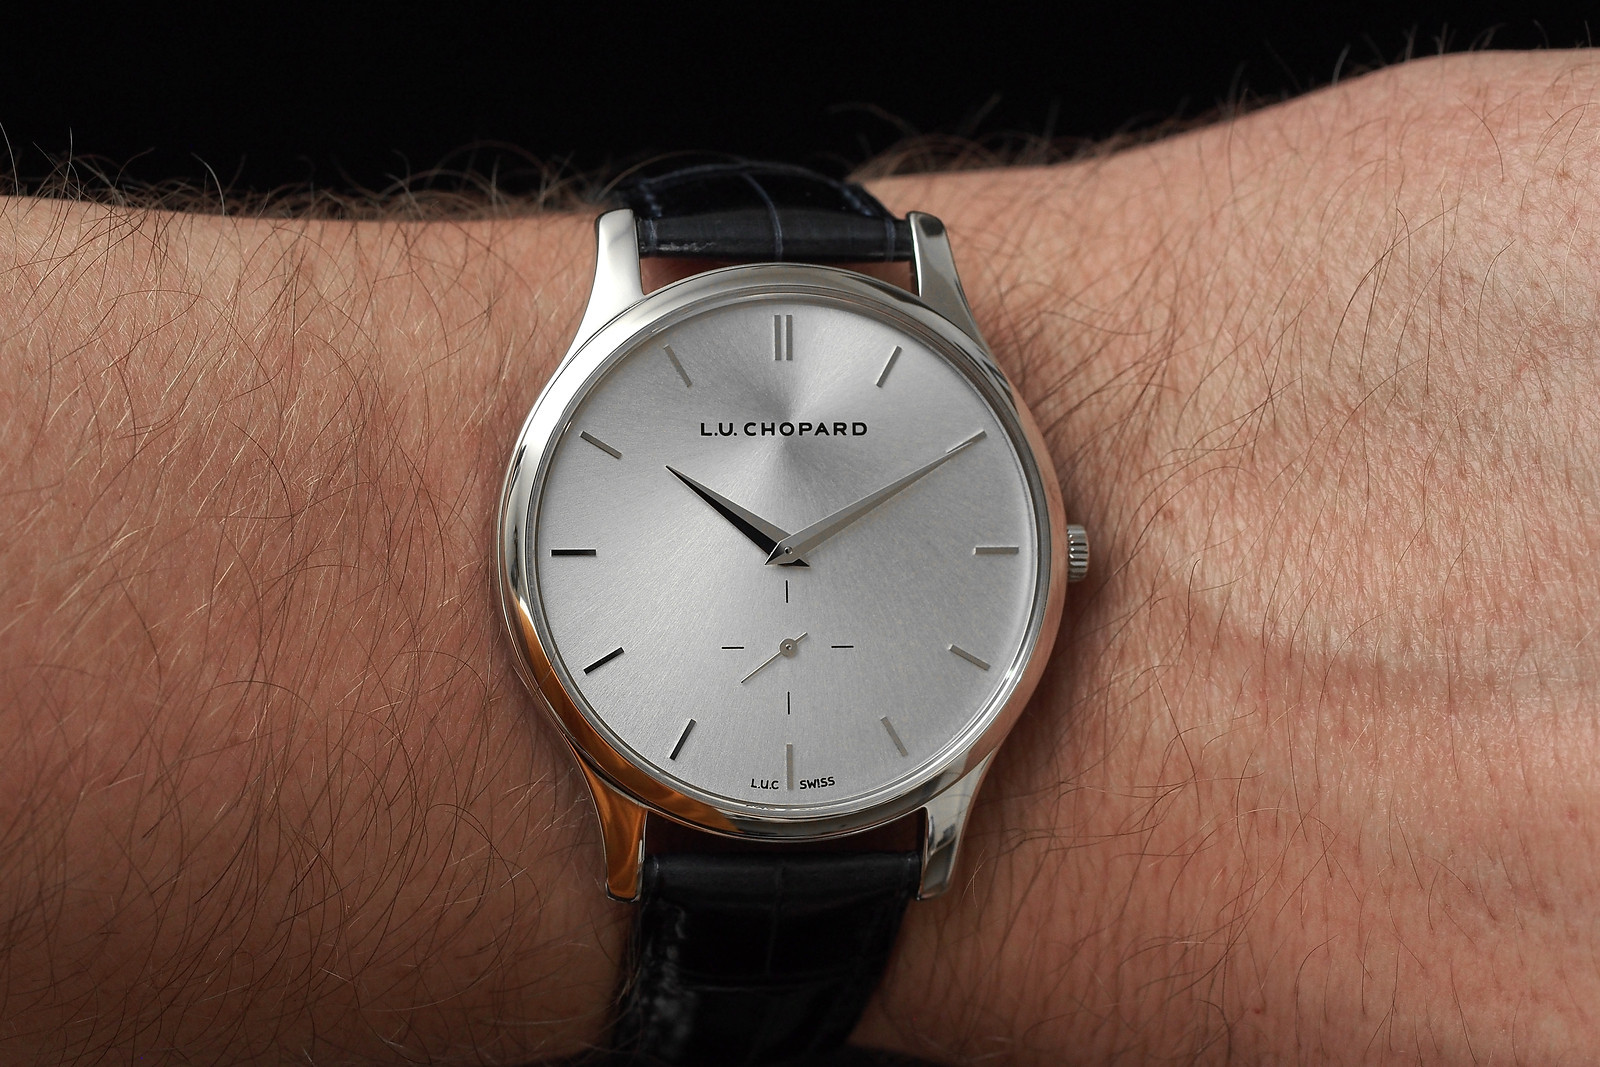clock: (532, 292, 1048, 824)
